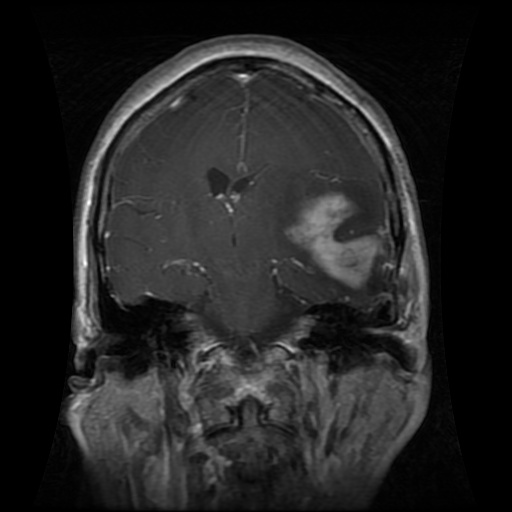glioma: (280, 178, 392, 297)
